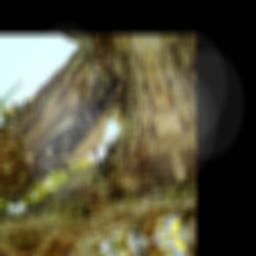Woodpecker: (20, 77, 146, 182)
